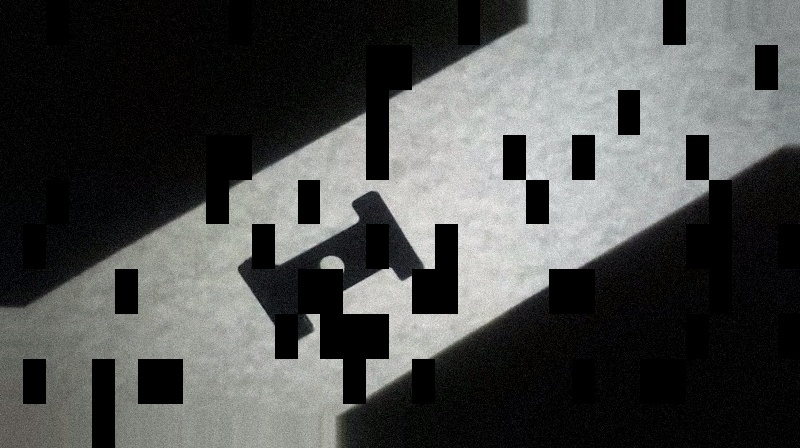O002: (235, 188, 429, 346)
